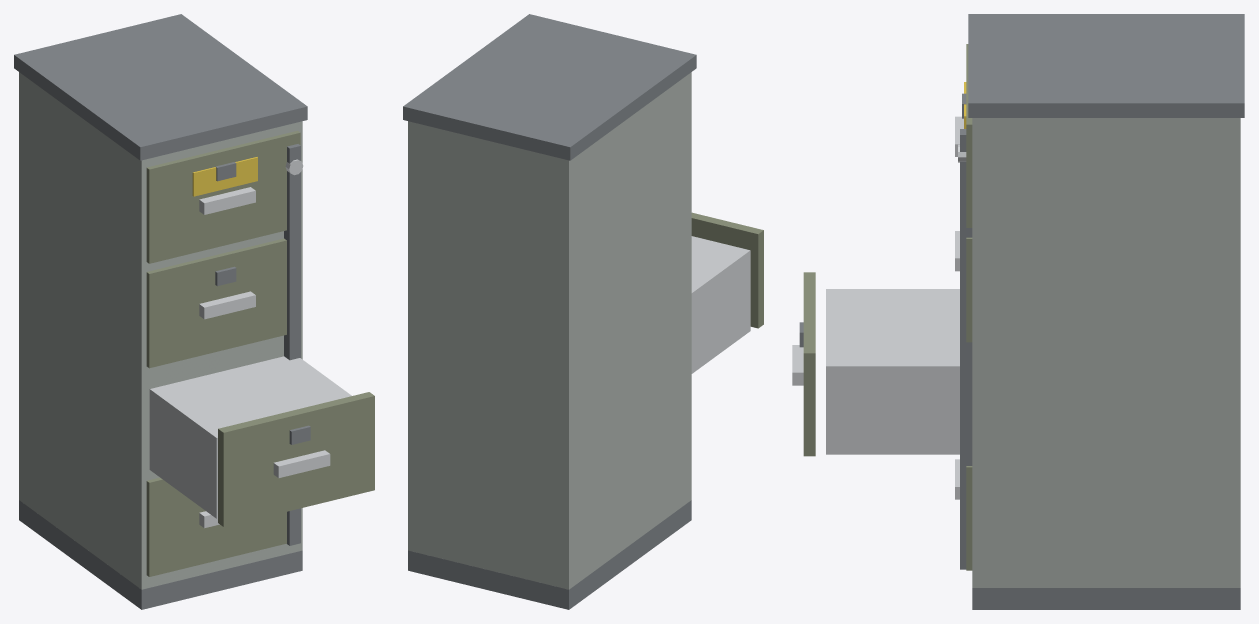
File: cold-war-missile-silo-and-command-bunker-filing-cabine-7f691433__15697.glb
The picture shows the model from 3 angles, left to right: view 1: azimuth 30°, elevation 25°; view 2: azimuth 150°, elevation 25°; view 3: azimuth 270°, elevation 25°; orthographic projection. The views are drawn at different scales.
Visible parts, largest first — view 1: filing-cabinet-open; view 2: filing-cabinet-open; view 3: filing-cabinet-open.
Boxes of the visible parts, bbox=[...] form: filing-cabinet-open: bbox=[14, 14, 374, 609]; filing-cabinet-open: bbox=[403, 14, 763, 609]; filing-cabinet-open: bbox=[792, 14, 1244, 609].
Bounding box in the file's own units: 0.5199 × 1.38 × 1.11.
